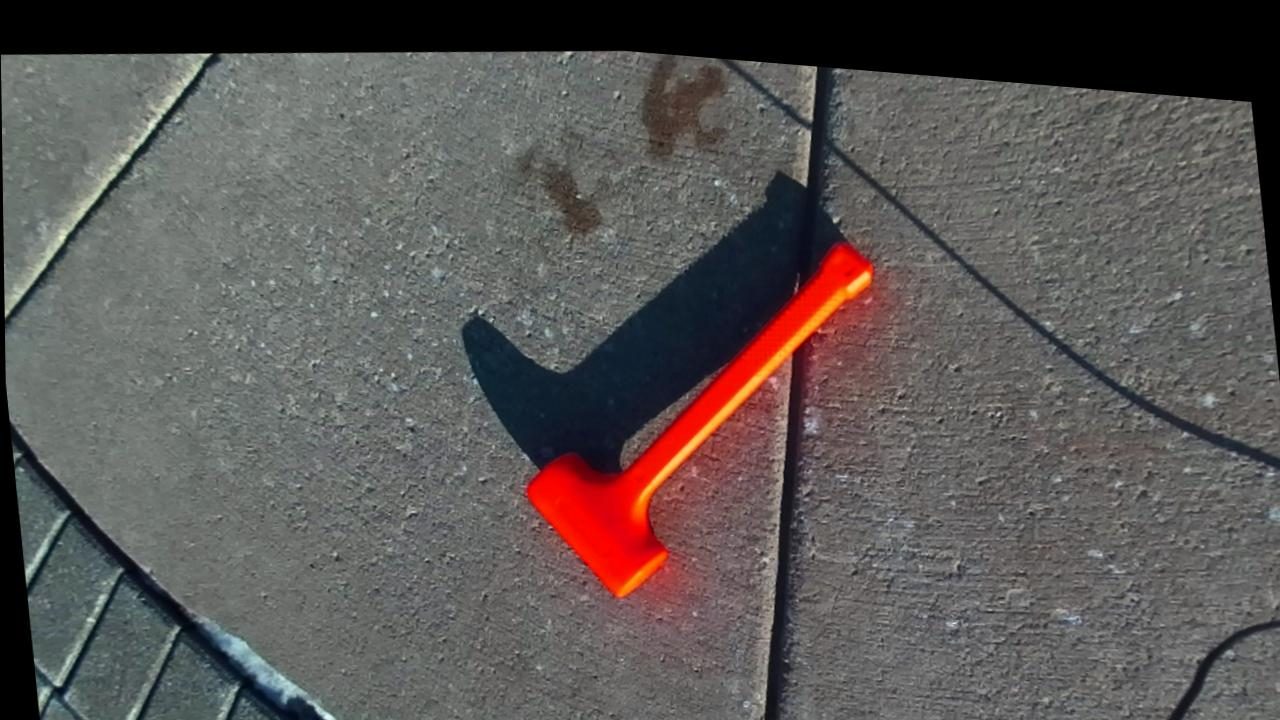mallet: (527, 242, 871, 596)
